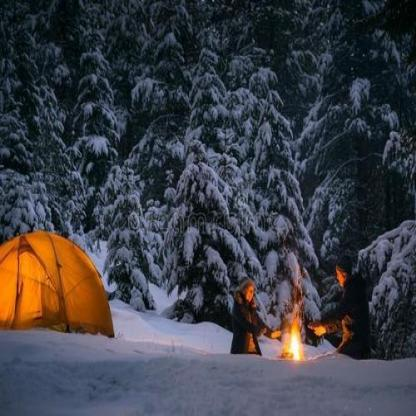fire: (272, 292, 320, 370)
other: (5, 216, 116, 335)
